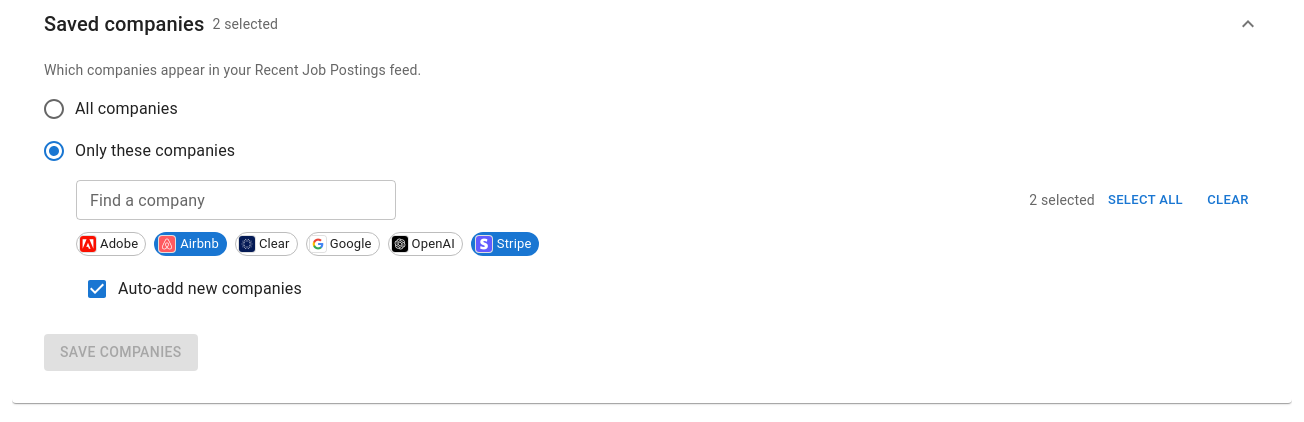
Test case: EnabledCompaniesSection › clicking a selected chip removes it
Click the button "Airbnb".
click(191, 244)  # box [154,232,227,256]
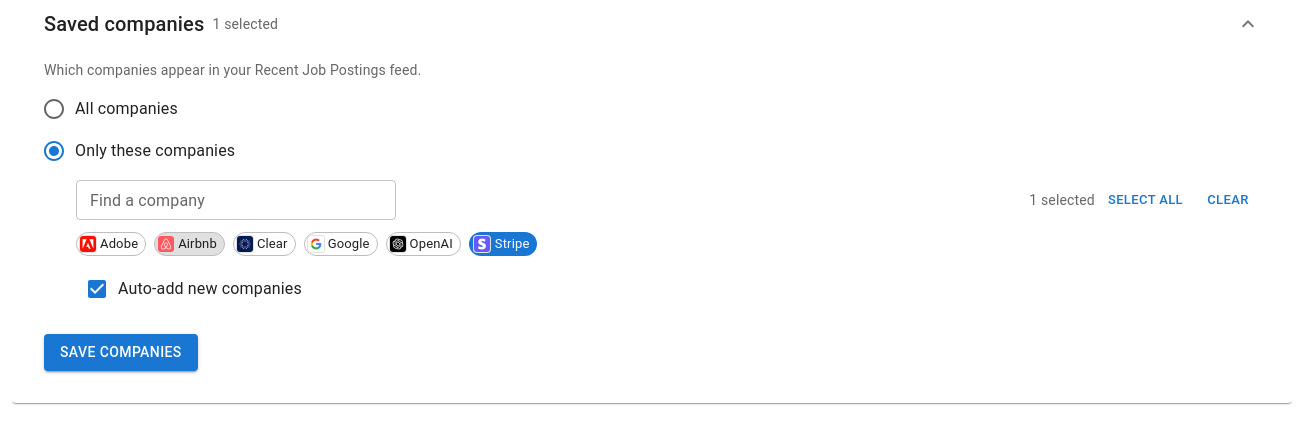
Check: the text with test id "saved-companies-summary" reads "1 selected", box [212,16,278,32]
Check: the button "Save companies" is enabled, box [44,334,198,370]
